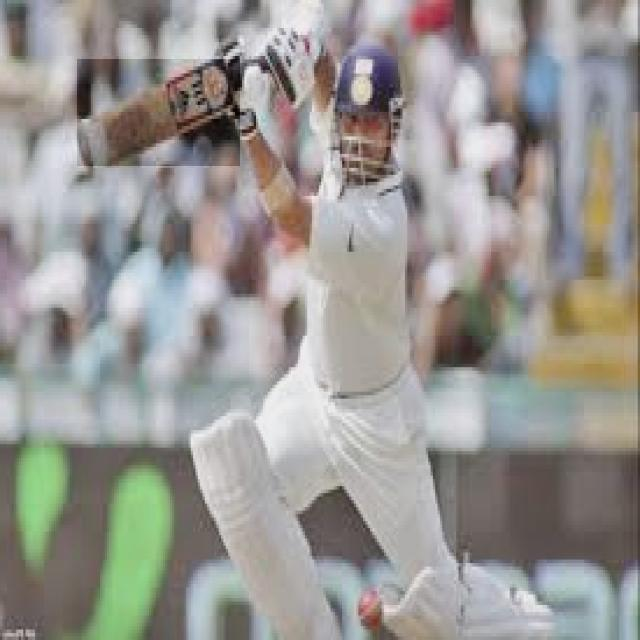bat: (80, 60, 243, 165)
toe: (80, 123, 104, 167)
